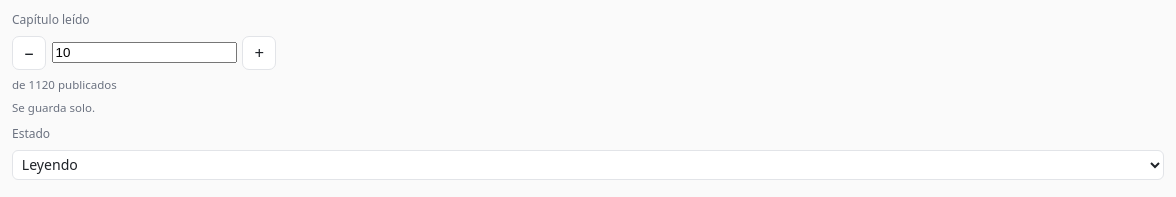
it: ChapterEditor › commits immediately on a stepper click, never waiting for blur
Click the button named "Uno más".
click(259, 53)  # box [242,36,276,70]
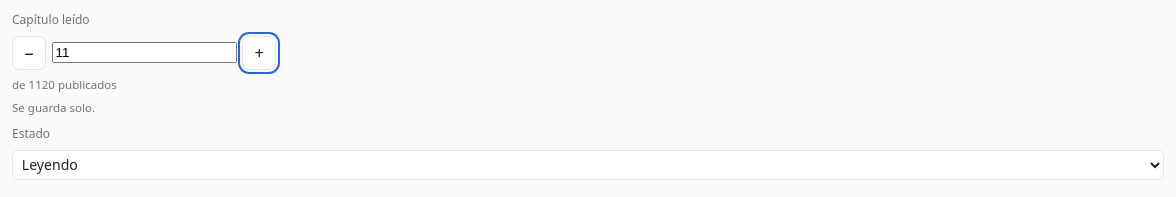
Now the field named "Capítulo leído" holds "11", box [52,42,237,64]
